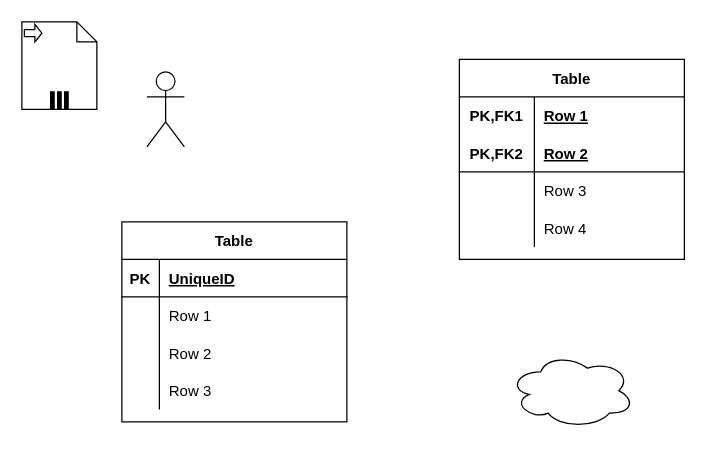
The diagram is 706 pixels wide and 450 high, and some of its shapes have lost their labels. The shapes that lost their labels are listed below. From the top down, each one's centre as x and y in pixels, then its label:
the point at 165,109: Actor
the point at 571,390: Cloud
